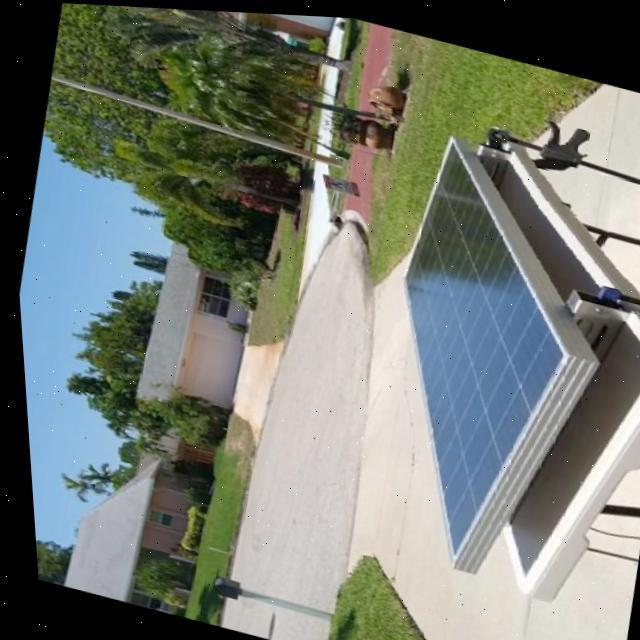Normal Solar Panel: (334, 122, 610, 580)
